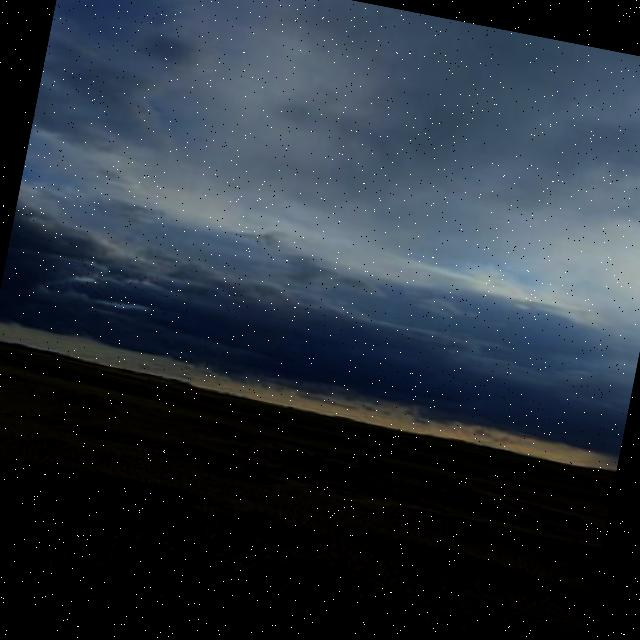Ns: (1, 174, 640, 465)
